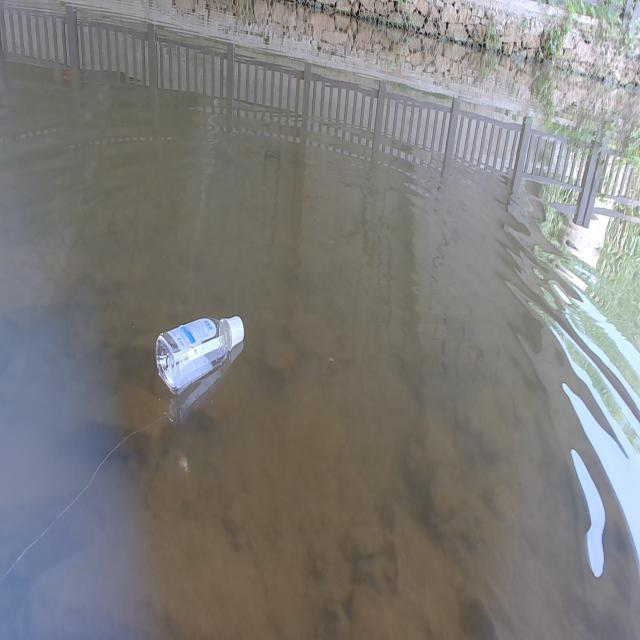garbage: (155, 313, 245, 395)
